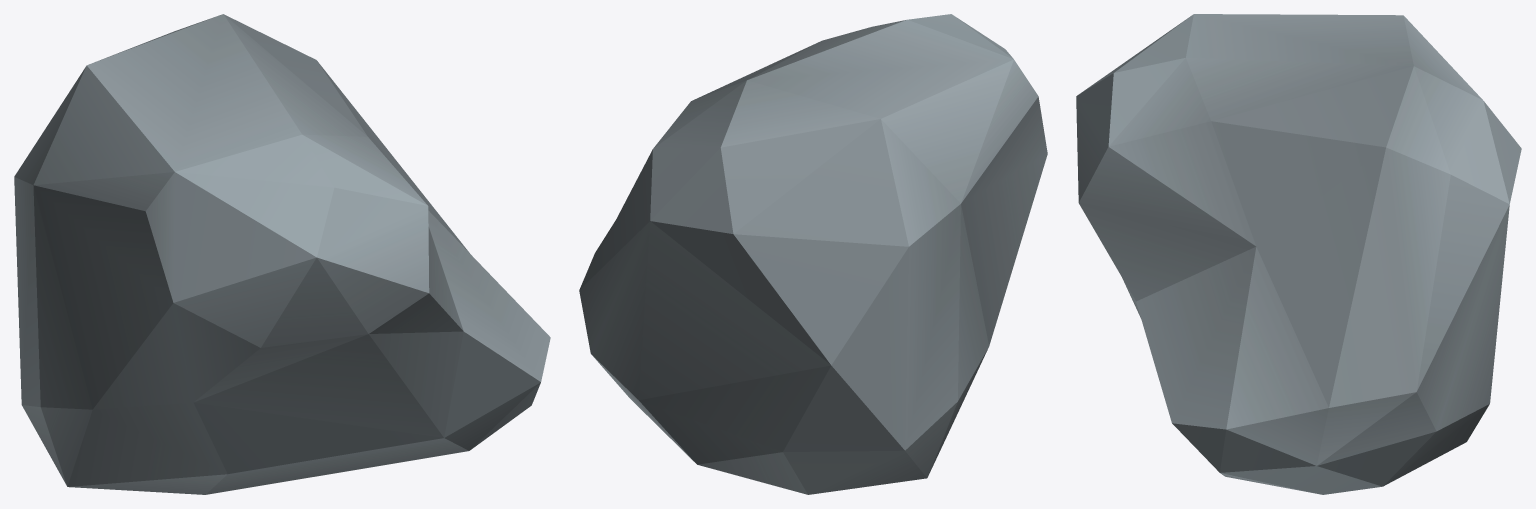
File: Pedra bruta solta.fbx
3 renders of one model, left to right at view 1: azimuth 30°, elevation 25°; view 2: azimuth 150°, elevation 25°; view 3: azimuth 270°, elevation 25°, orthographic. The views are drawn at different scales.
Parts seen in each view (by area): view 1: Pedra; view 2: Pedra; view 3: Pedra.
Part boxes in pixels (<box>): Pedra: <box>14,14,550,494</box>; Pedra: <box>579,14,1047,494</box>; Pedra: <box>1076,14,1521,494</box>.
Bounding box in the file's own units: 57.16 × 54.73 × 56.97.
